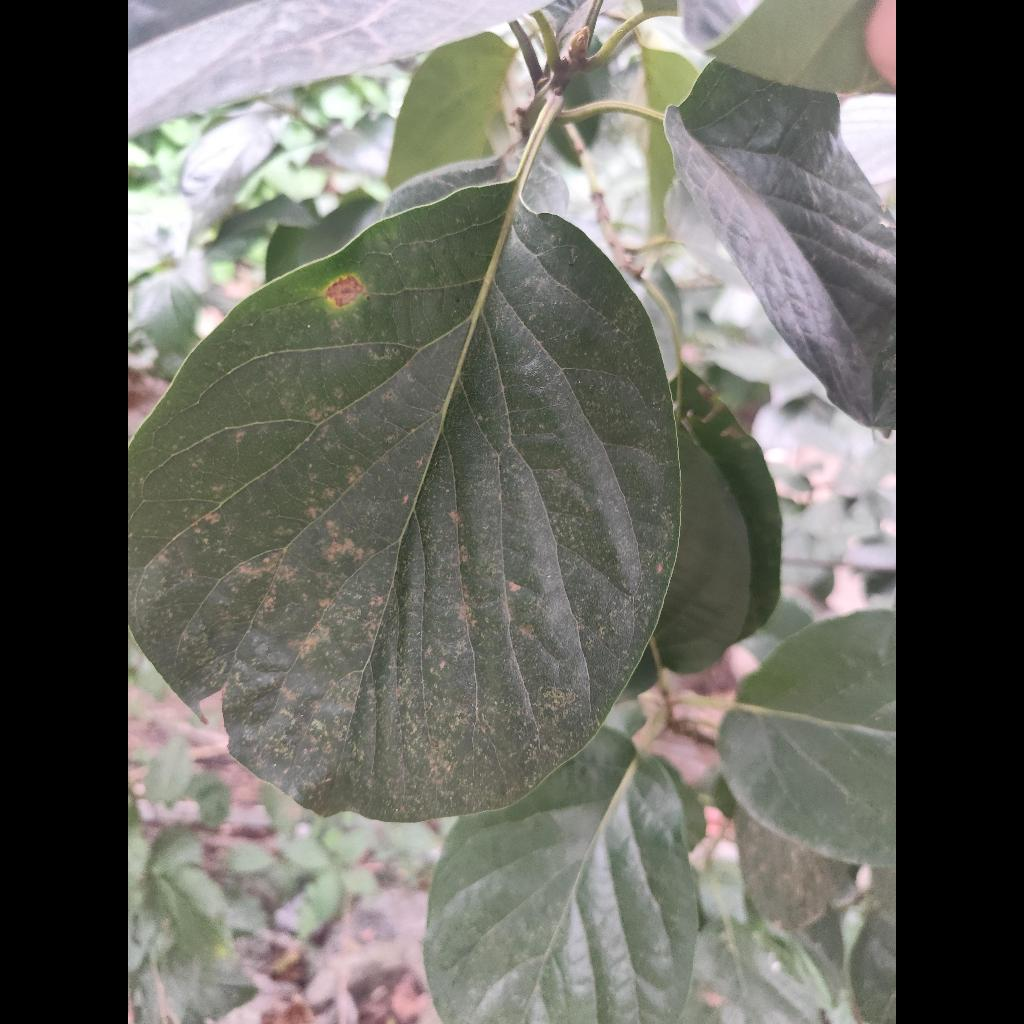Anthracnose: (128, 181, 679, 821)
